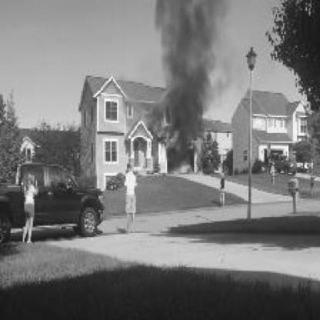Fire: (151, 118, 214, 164)
Smoke: (153, 0, 215, 130)
other: (20, 179, 40, 225)
